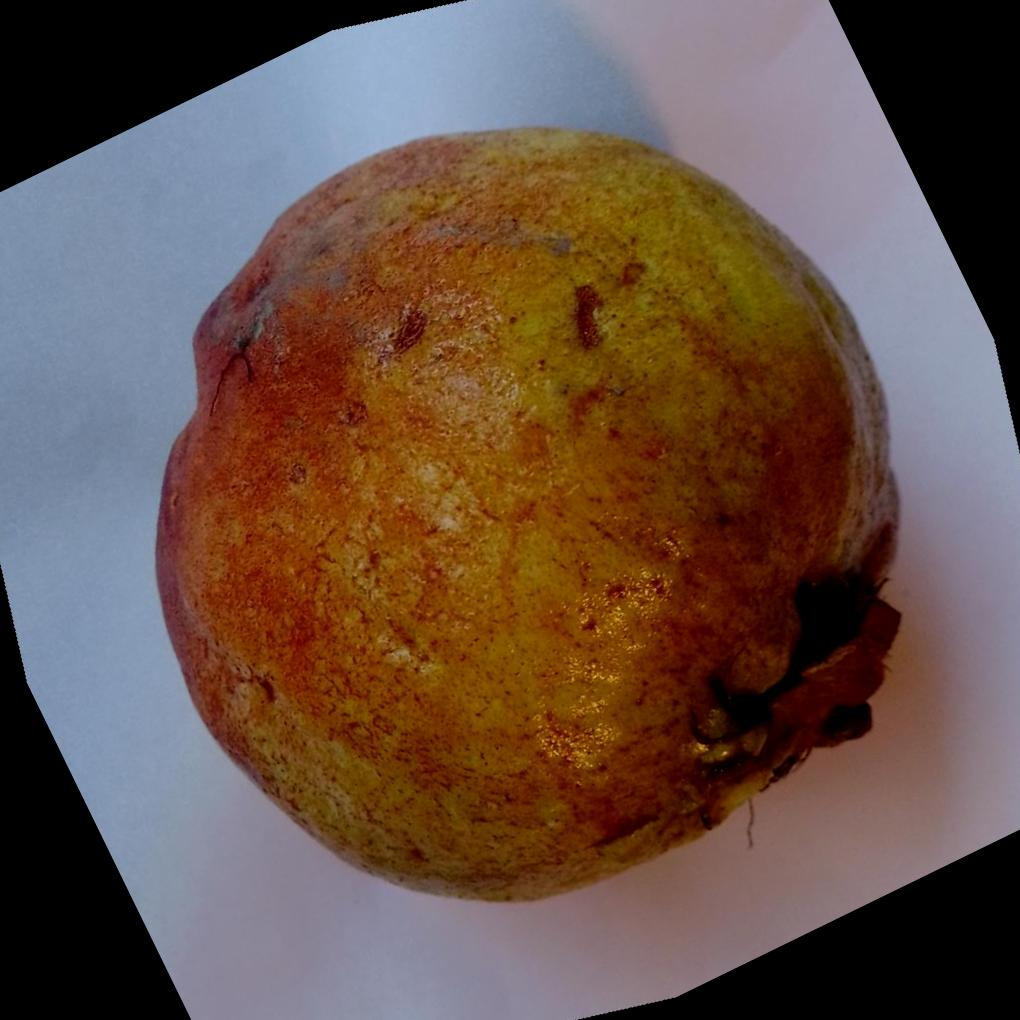FreshOrange: (154, 125, 904, 908)
